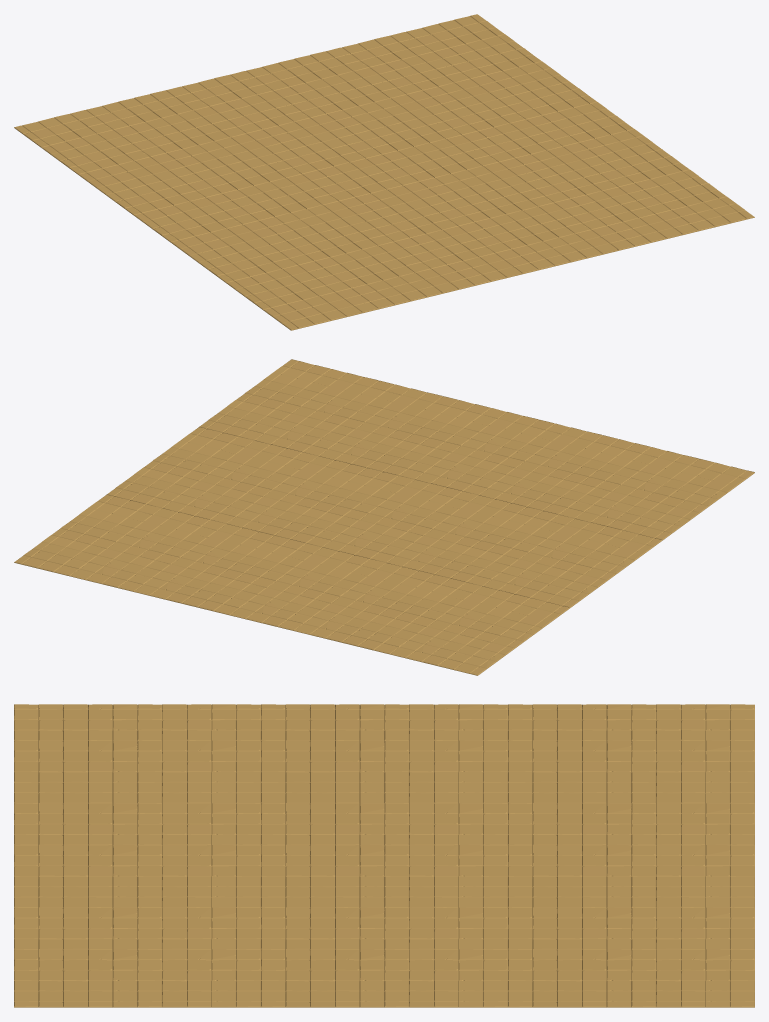
Rendered from ground.fbx.
3 renders of one model, top to bottom at view 1: azimuth 30°, elevation 25°; view 2: azimuth 150°, elevation 25°; view 3: azimuth 270°, elevation 25°, orthographic. The views are drawn at different scales.
Visible parts, largest first — view 1: level 1.005; view 2: level 1.005; view 3: level 1.005.
Part boxes in pixels (x1=…): level 1.005: x1=14, y1=14, x2=754, y2=330; level 1.005: x1=14, y1=359, x2=754, y2=675; level 1.005: x1=14, y1=704, x2=754, y2=1007.
Bounding box in the file's own units: 2898 × 6.6 × 3000.
